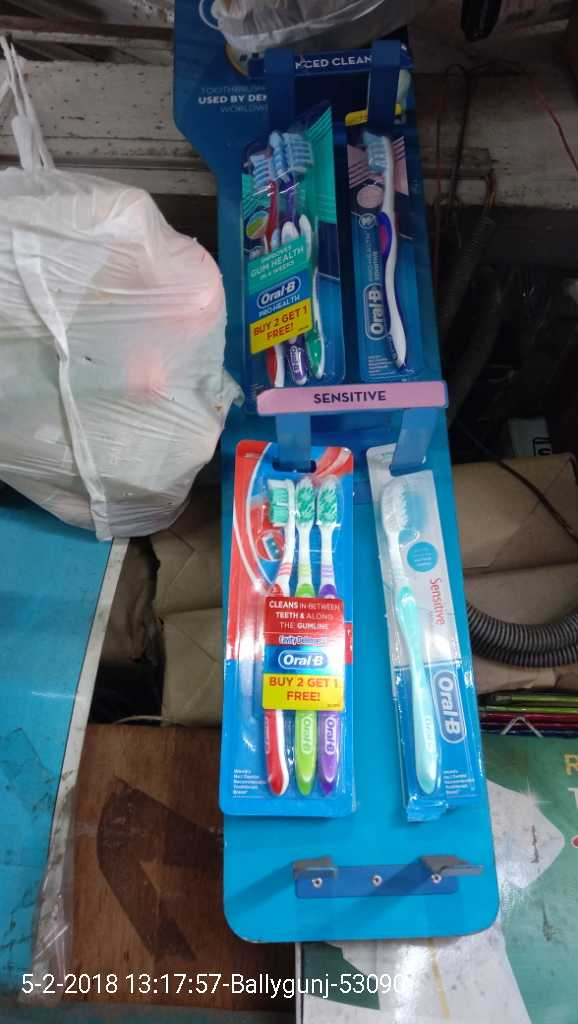oralb: (247, 471, 354, 801), (227, 135, 329, 383), (375, 463, 448, 801), (354, 126, 416, 385)
